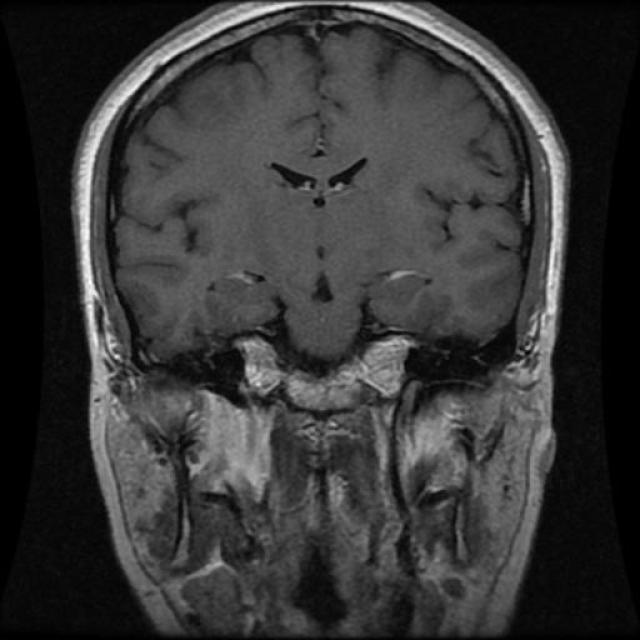pituitary: (220, 258, 423, 411)
